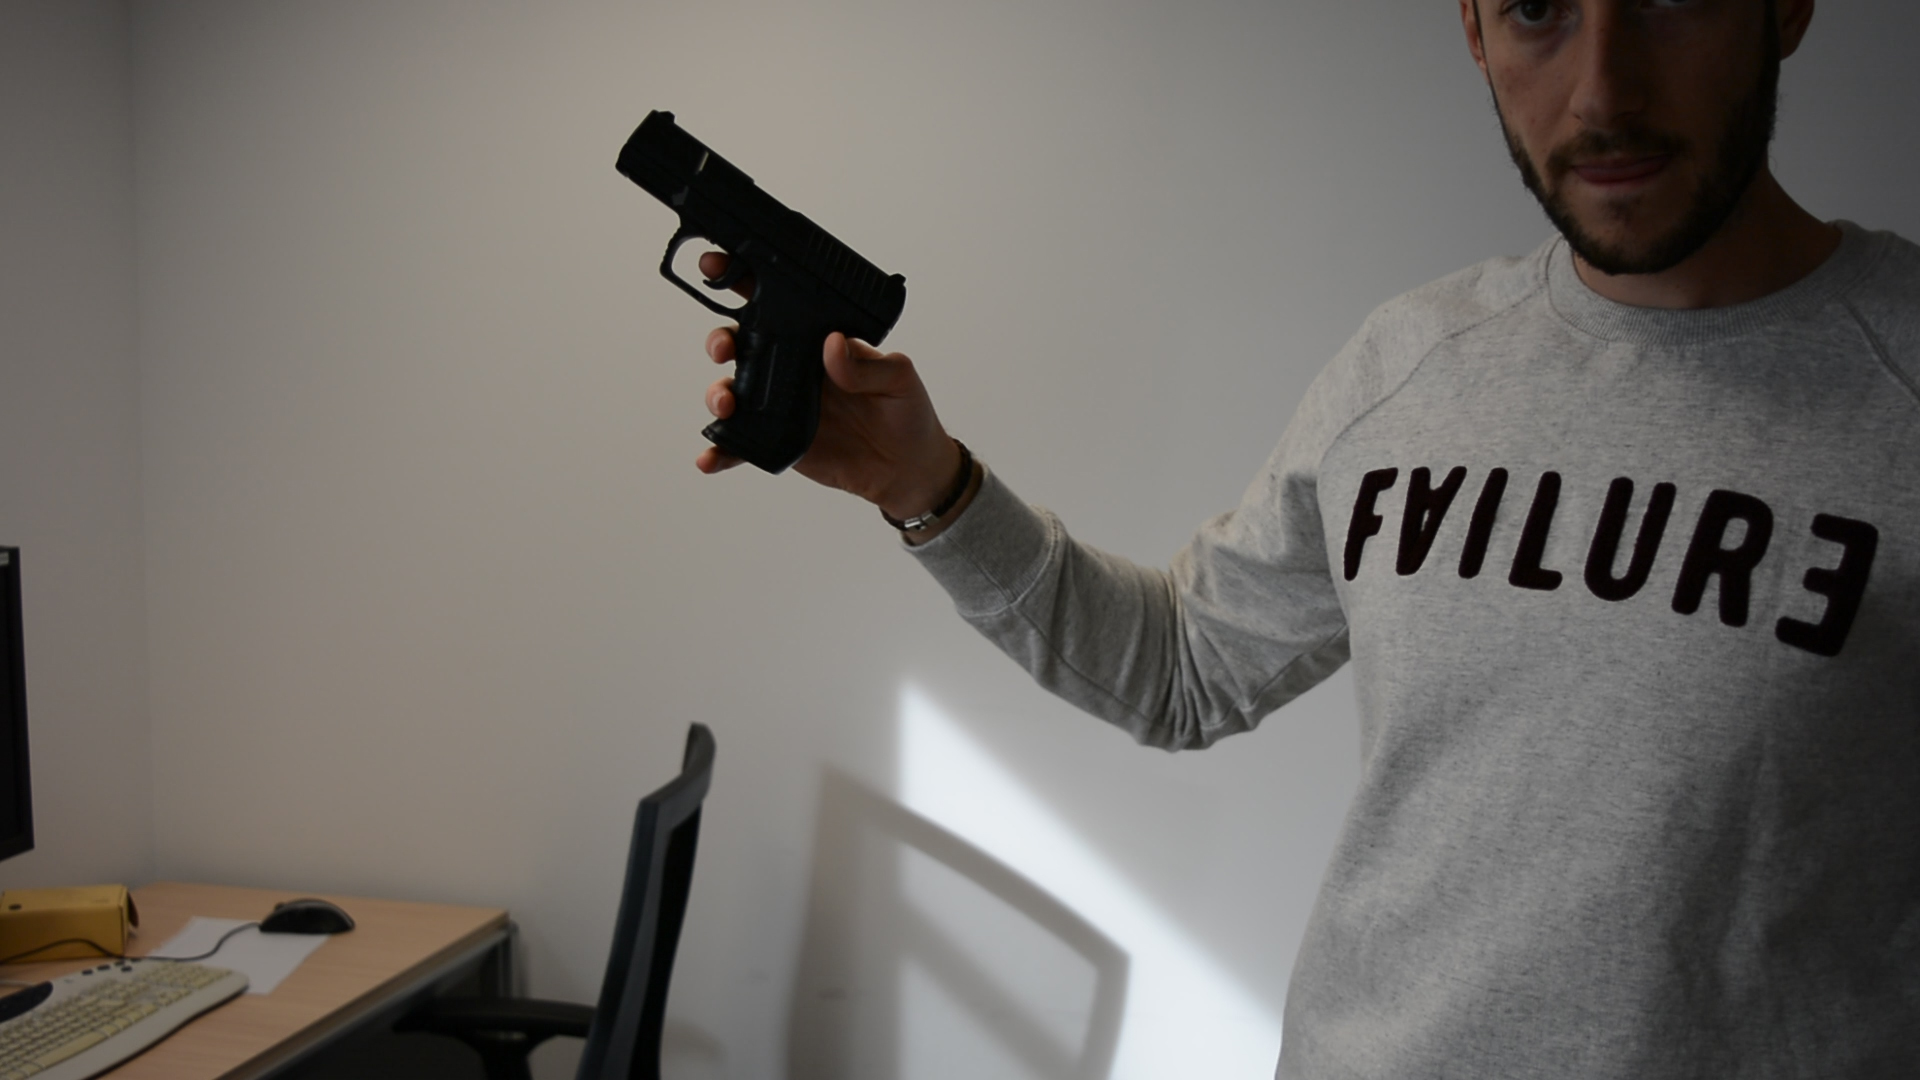pistol: (613, 107, 909, 477)
